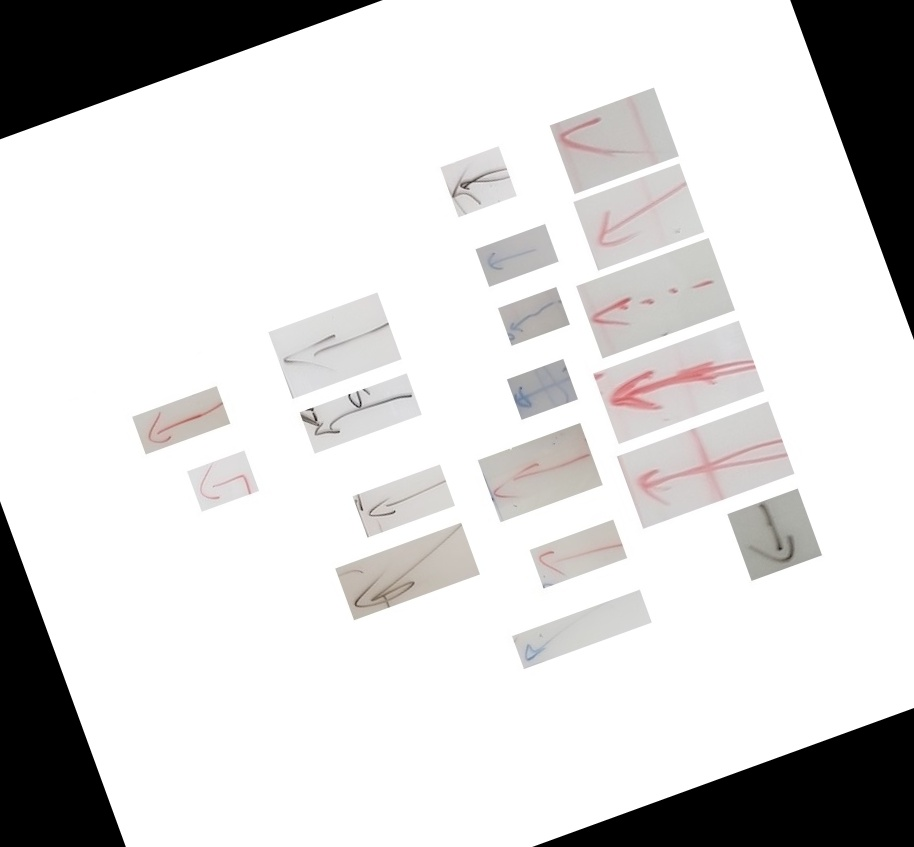arrow: (576, 487, 725, 604), (553, 411, 665, 513), (657, 570, 781, 656), (289, 603, 396, 698), (230, 381, 328, 471), (534, 339, 632, 426), (432, 507, 526, 593), (534, 254, 624, 337), (254, 456, 348, 529), (511, 179, 585, 269), (482, 596, 564, 666), (311, 542, 385, 614), (88, 467, 159, 528), (427, 301, 489, 361), (465, 687, 529, 745), (396, 226, 449, 292), (457, 436, 510, 496), (452, 365, 505, 420), (141, 532, 184, 585)
